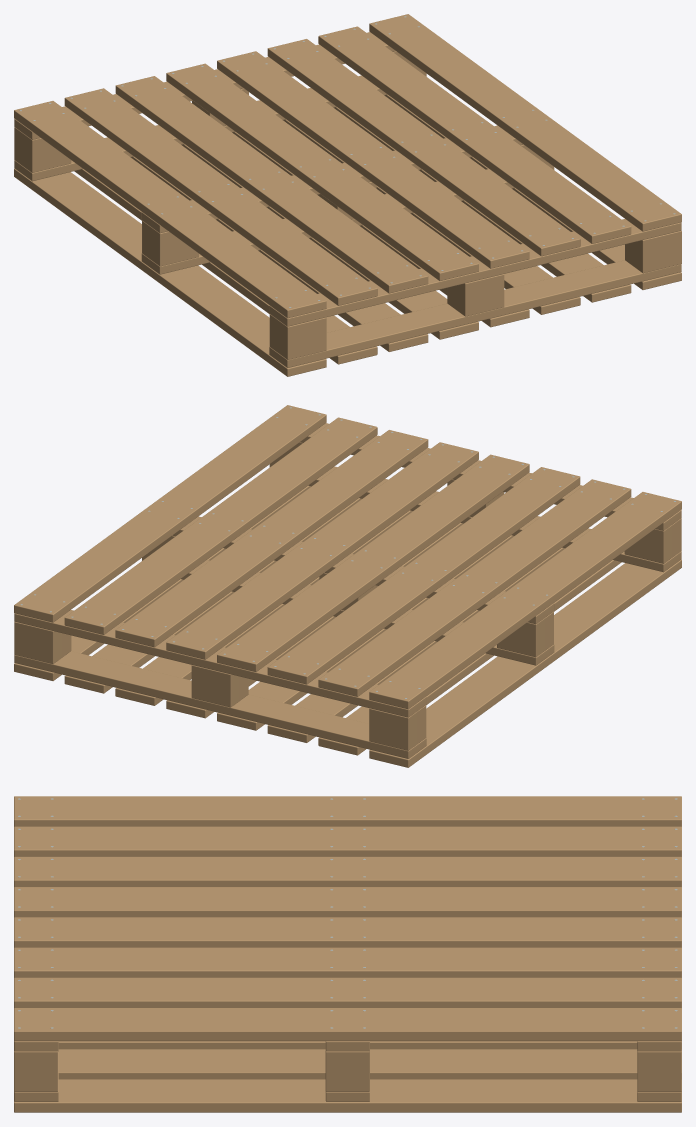
File: pallet_block_a08.glb
3 renders of one model, top to bottom at view 1: azimuth 30°, elevation 25°; view 2: azimuth 150°, elevation 25°; view 3: azimuth 270°, elevation 25°, orthographic. The views are drawn at different scales.
Bounding box in the file's own units: 0.9995 × 0.1618 × 1.2.
